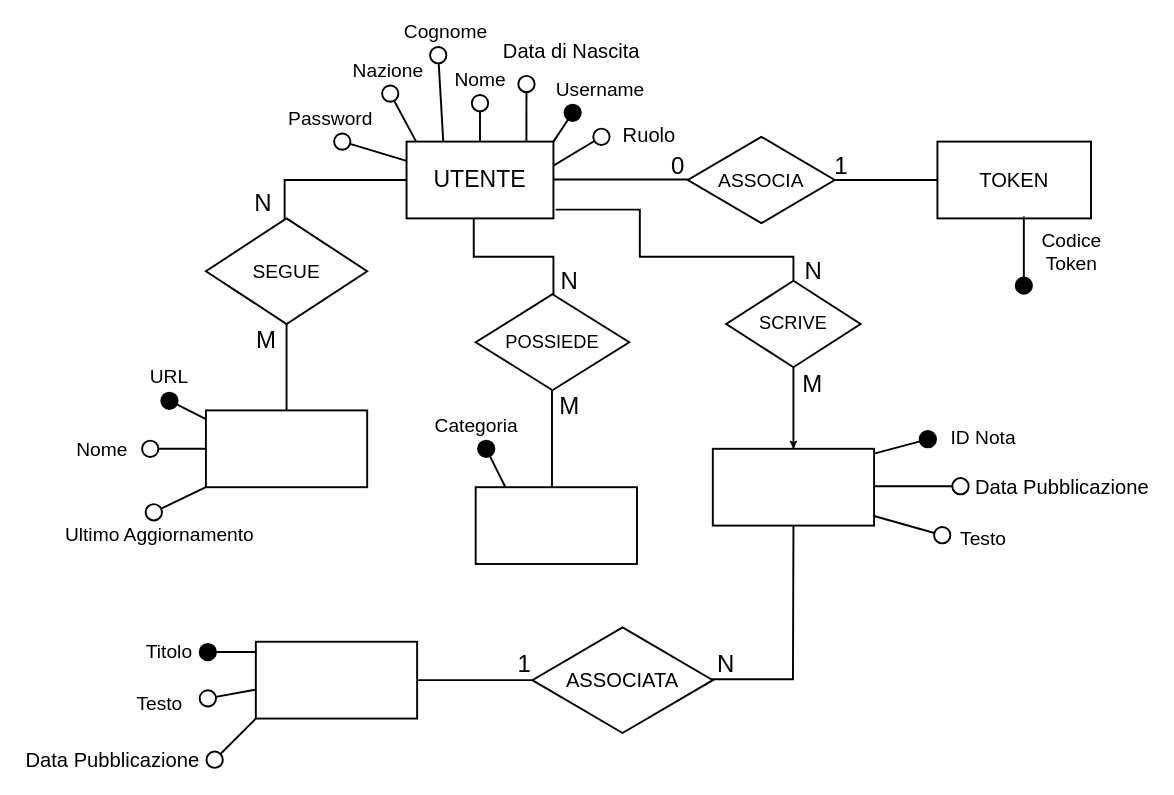
The diagram is 1174 pixels wide and 795 high, and some of its shapes have lost their labels. The shapes that lost their labels are listed below. From the top down, each one's centre as x and y in pixels, then its label:
At point (286, 448): "SORGENTE FEED".
At point (793, 486): "NOTA ESPERTO".
At point (555, 525): "INTERESSE".
At point (336, 679): "NOTIZIA".
